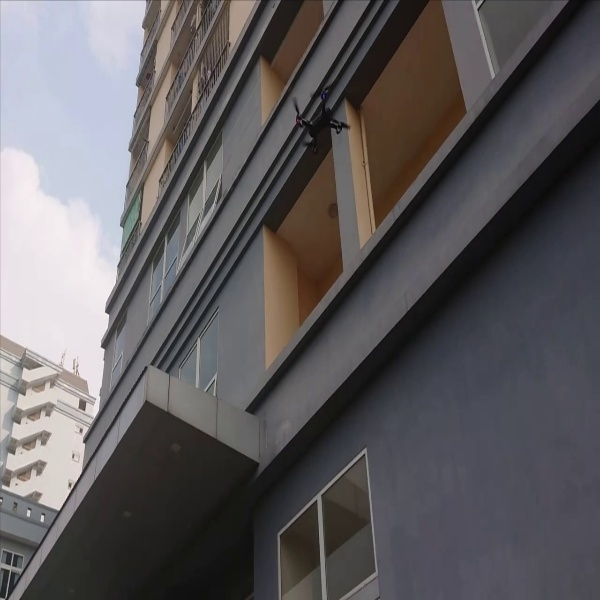drone: (282, 88, 357, 150)
